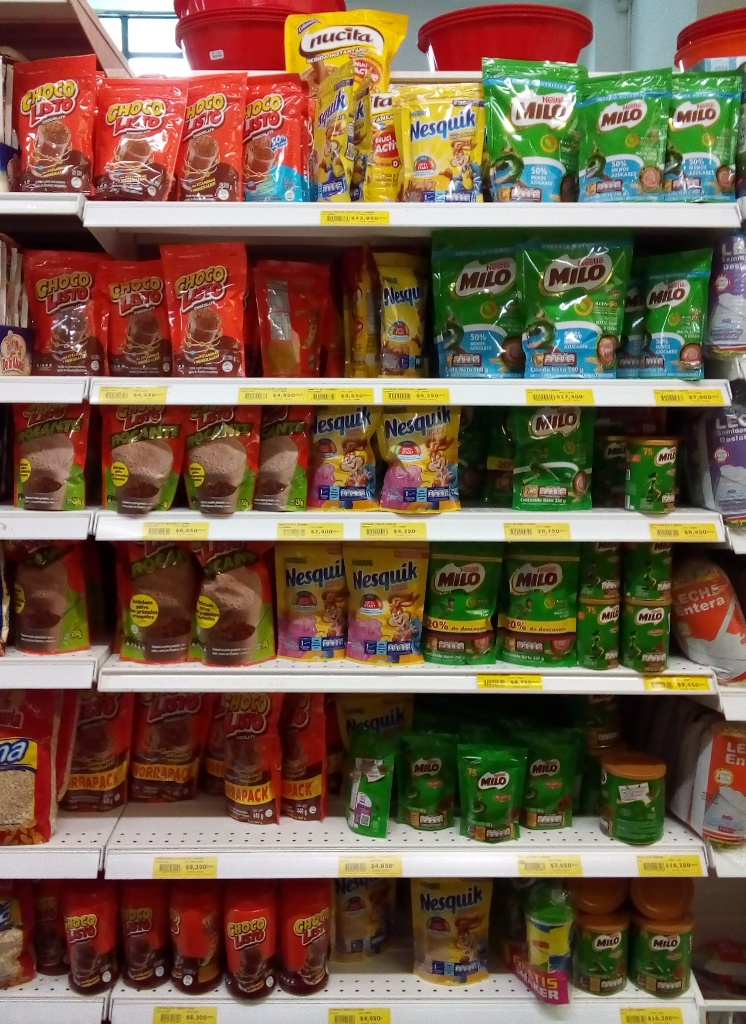COL0170102DYP25000: (258, 407, 311, 516)
COL0170102DYP50000: (191, 539, 278, 668)
COL0170103DYP44000: (282, 691, 330, 822)
COL0170103TRR30000: (276, 888, 333, 990)
COL0170104DYP20000: (247, 73, 306, 202)
COL0170203DYP10000: (520, 730, 579, 829)
COL0170203DYP25000: (511, 404, 593, 513)
COL0170203LAT20000: (628, 430, 681, 512)
COL0170203LAT40000: (602, 749, 668, 840)
COL0170205DYP20000: (672, 72, 743, 200)
COL0170205DYP50000: (488, 56, 576, 198)
COL0170303DYP20000: (404, 85, 483, 201)
COL0170305DYP20000: (375, 406, 461, 513)
COL0170306DYP20000: (412, 880, 487, 984)
